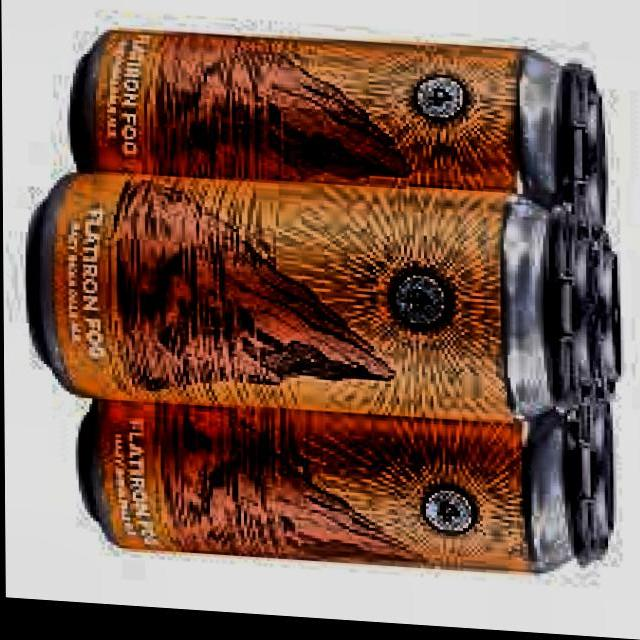litter: (14, 158, 600, 444), (57, 19, 620, 244), (51, 370, 624, 586), (579, 220, 627, 414)
